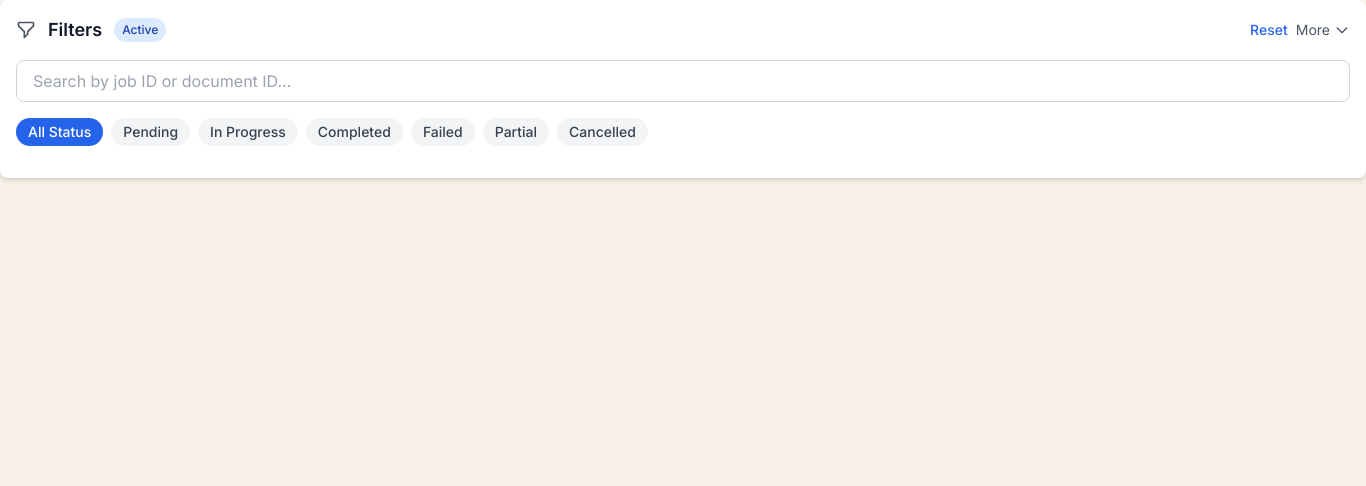
Scenario: AdvancedJobFilters › Date Range Filter (Expanded) › should display date range values
Click the button "More".
click(1323, 30)  # box [1296,20,1350,40]
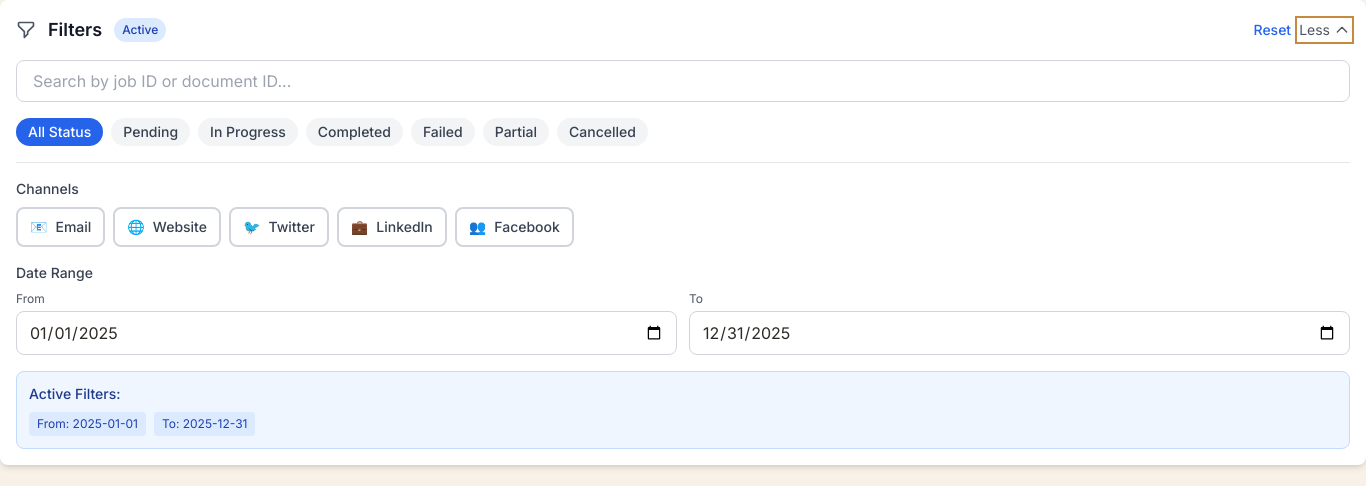
Result: the 1st date field holds "2025-01-01" at [16,311,677,355]
Result: the 2nd date field holds "2025-12-31" at [689,311,1350,355]
